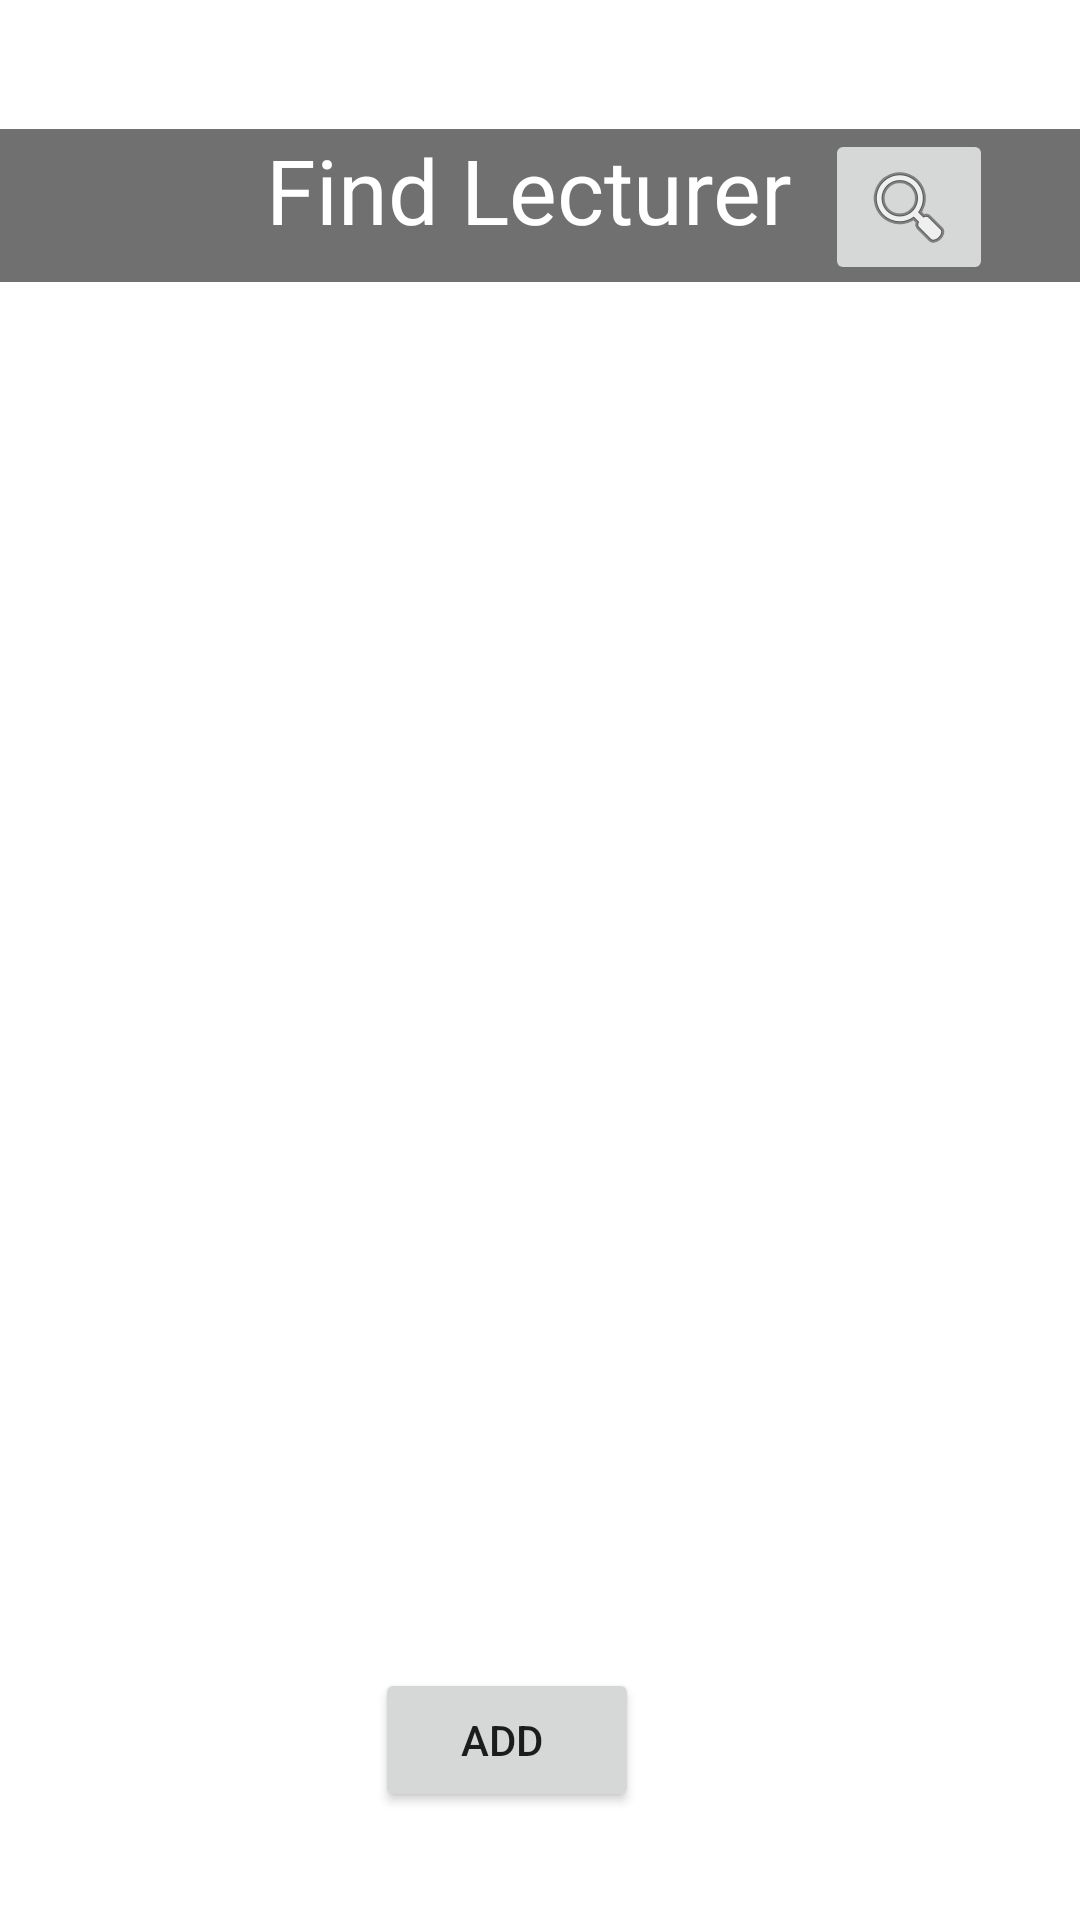

Where to tap for icons on this 1080w x 1920h app screen, as (x=x, y=y):
search: (x=909, y=207)
